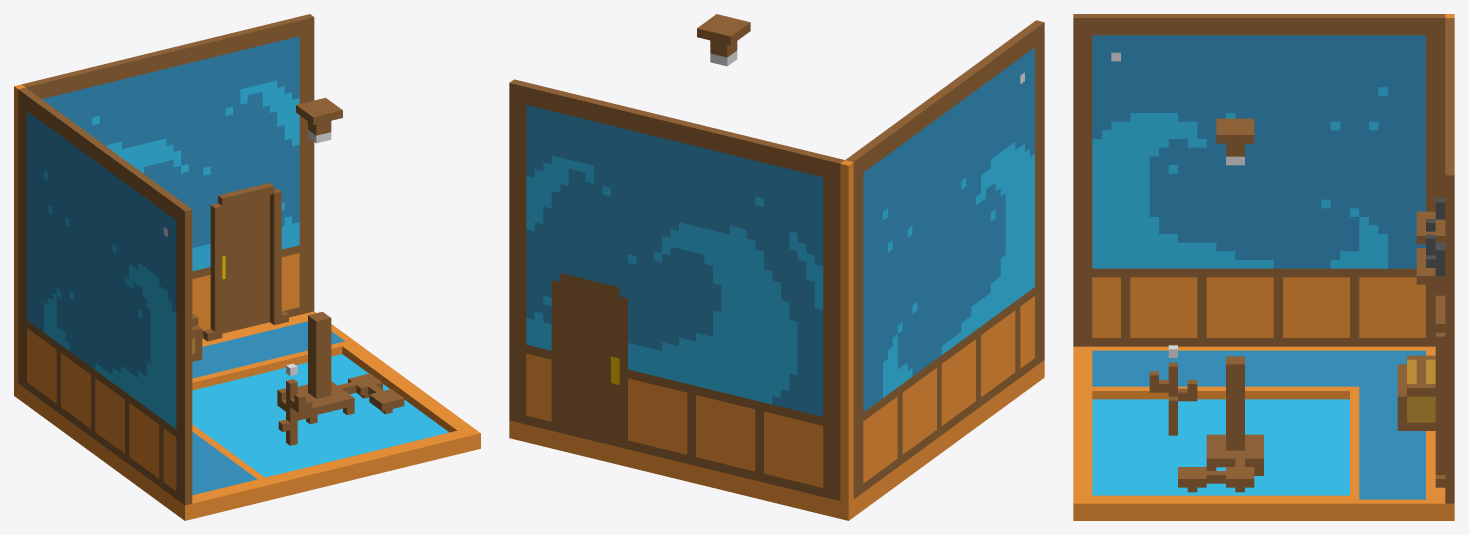
The model's file is test-room-int.glb.
3 renders of one model, left to right at view 1: azimuth 30°, elevation 25°; view 2: azimuth 150°, elevation 25°; view 3: azimuth 270°, elevation 25°, orthographic. The views are drawn at different scales.
Visible parts, largest first — view 1: Untitled; view 2: Untitled; view 3: Untitled.
Part boxes in pixels (x1,y1,x2,y2): Untitled: [14, 14, 480, 520]; Untitled: [509, 14, 1044, 520]; Untitled: [1073, 14, 1454, 520].
Size of the model in its own units: 4 by 4 by 4.
1 material, 1 textured.
